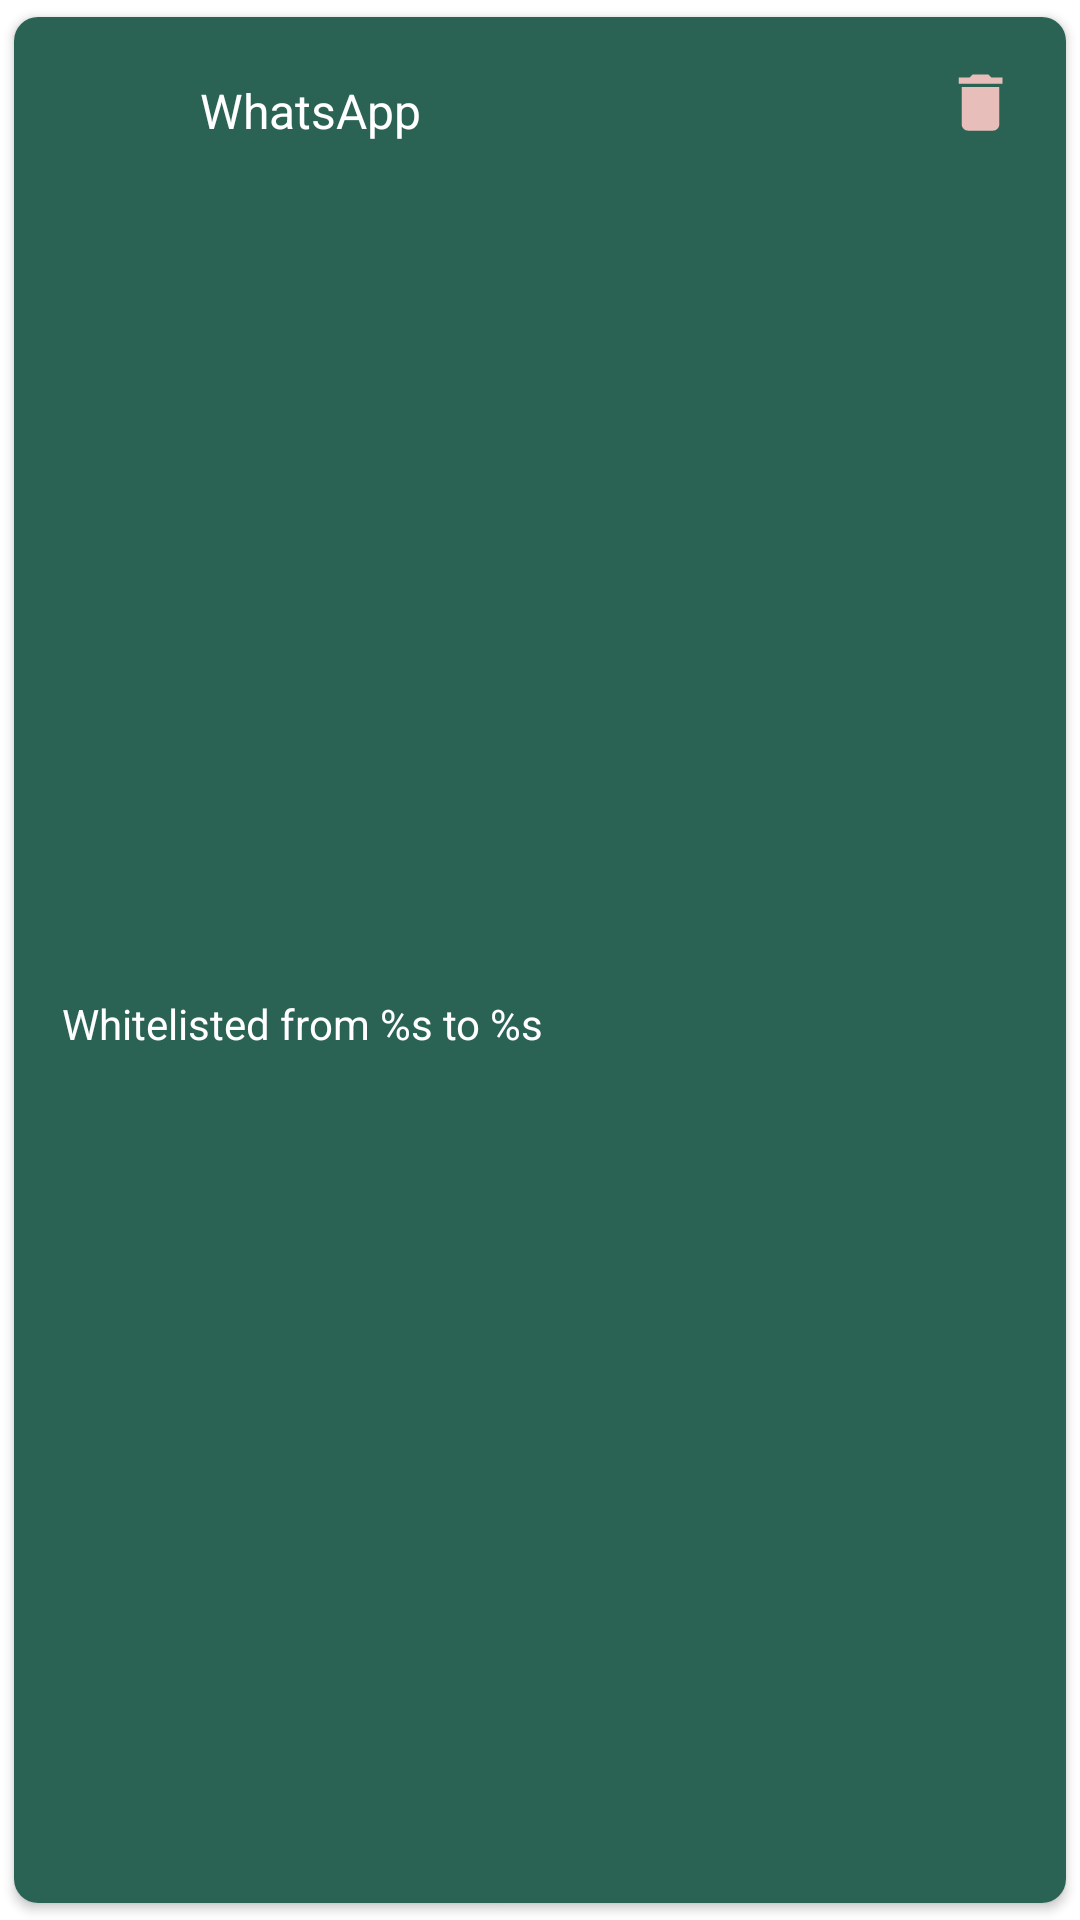

Icon bounding boxes for this 1080×1920 phone screenshot, format (x1, y1, x2, y2):
delete: (958, 74, 1003, 131)
